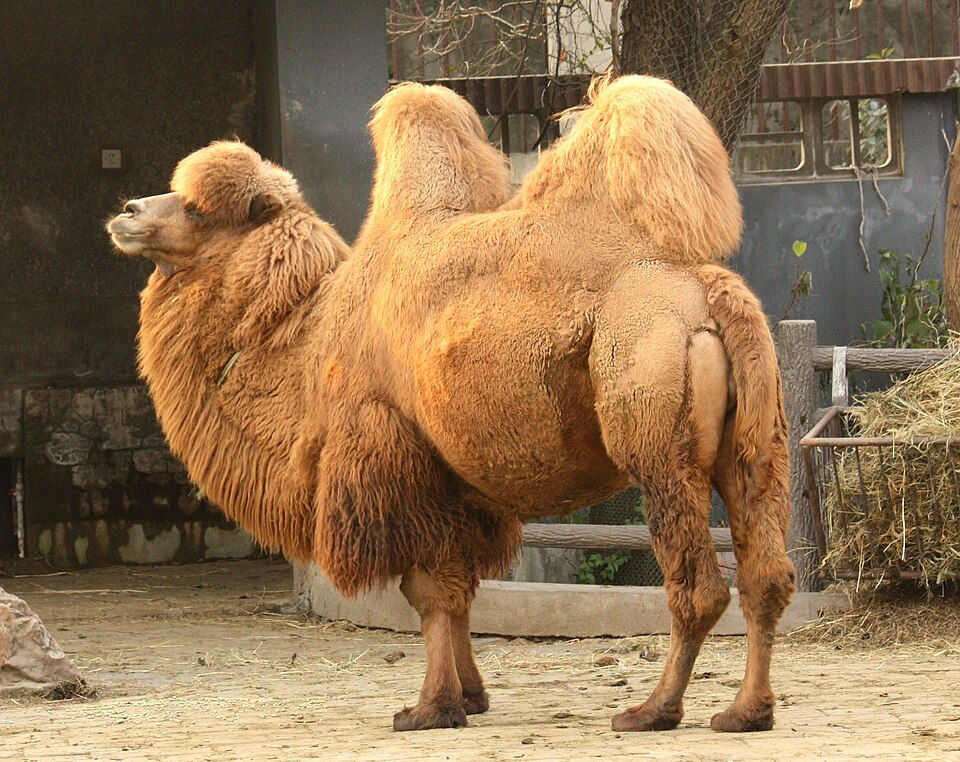camel: (103, 75, 806, 742)
